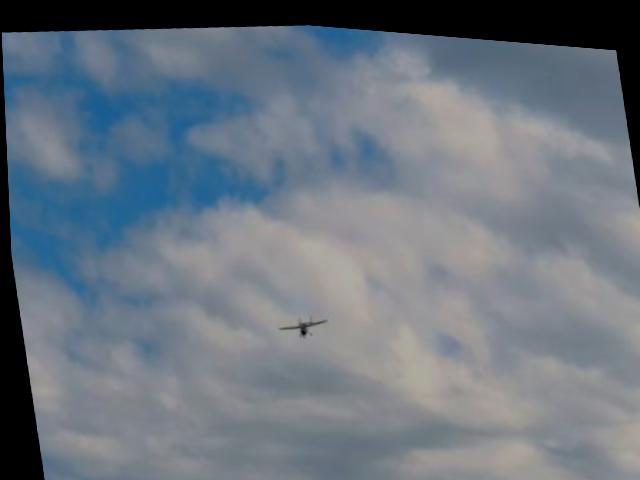uav: (273, 305, 329, 338)
